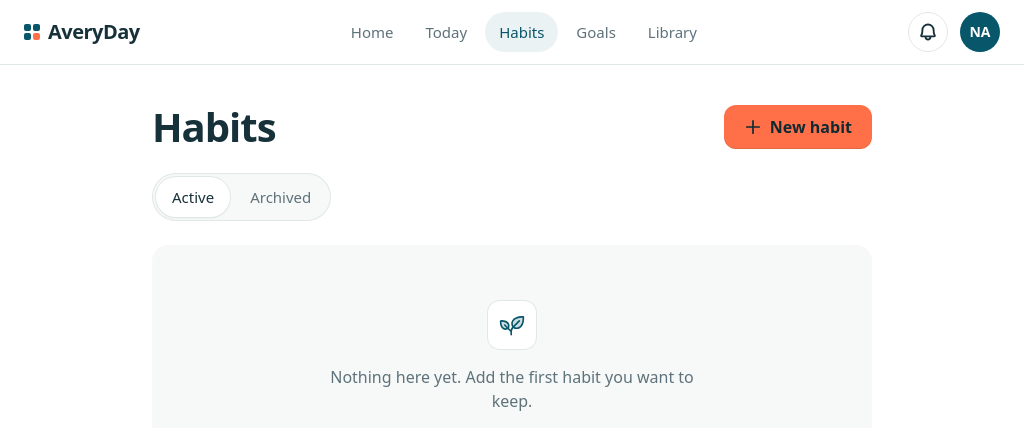
Test: habit list › asks for the archived list on the Archived tab
Click the button "Archived" at {"x": 281, "y": 197}, box x1=234 y1=177 x2=327 y2=217
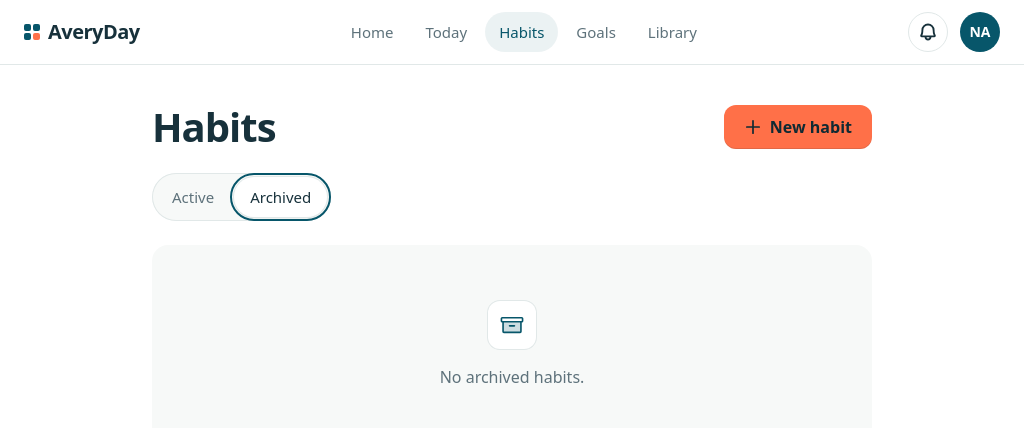
Check: the text "No archived habits." is shown, box x1=440 y1=365 x2=584 y2=389
